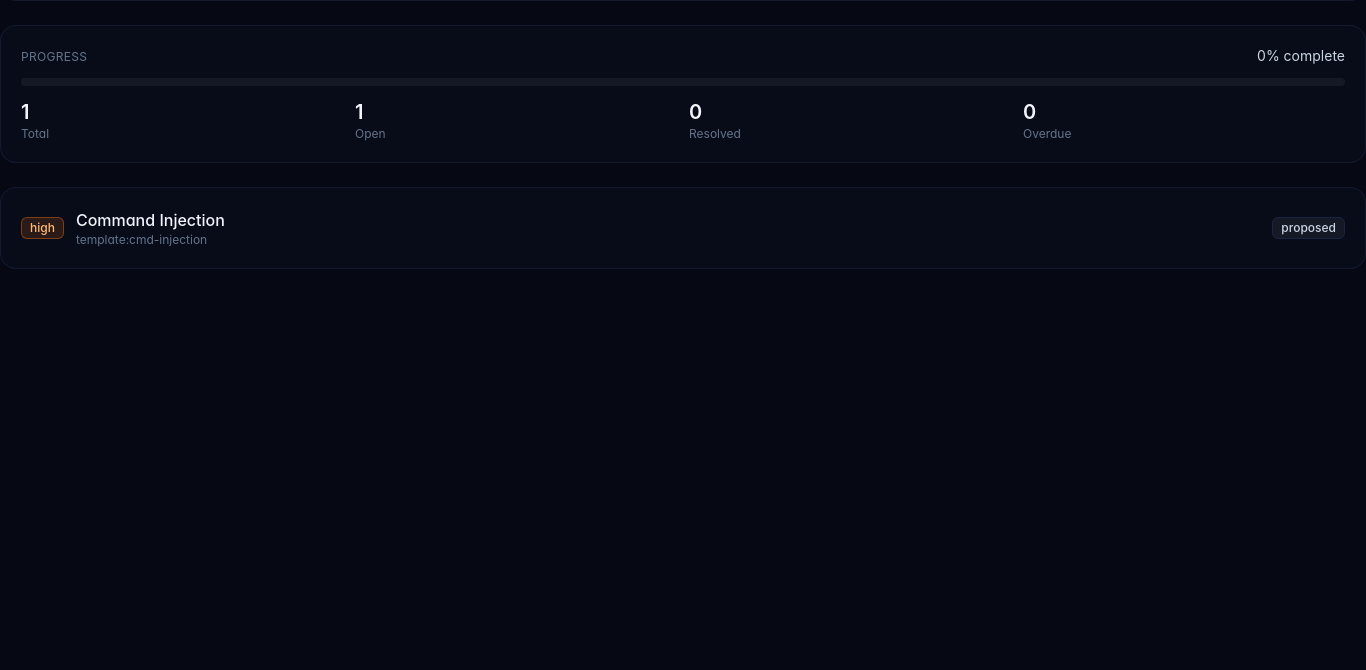
RemediationTab — guarded statuses are never offered › omits `verified` and `risk_accepted` from the transition control
Click the button "Command Injection" at (42, 228), box [21, 208, 1345, 248]
(page scrolled)
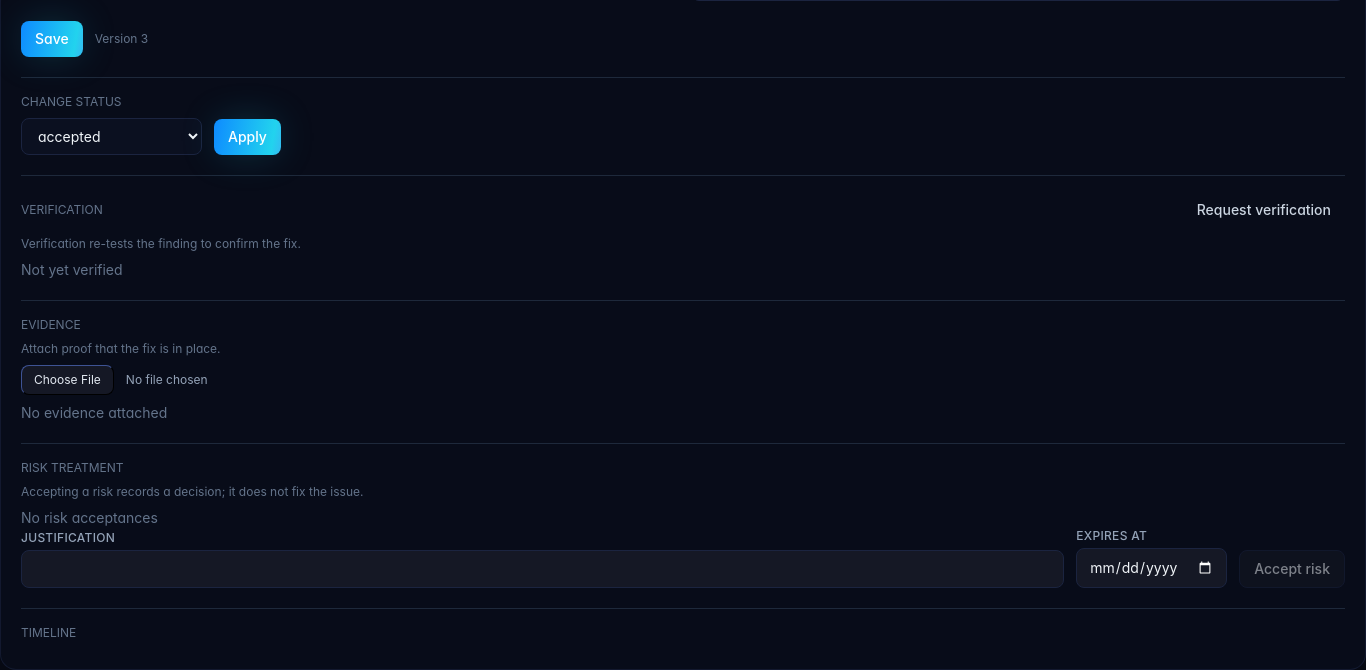
Check: the text "Timeline" is shown, box [21, 625, 76, 640]
